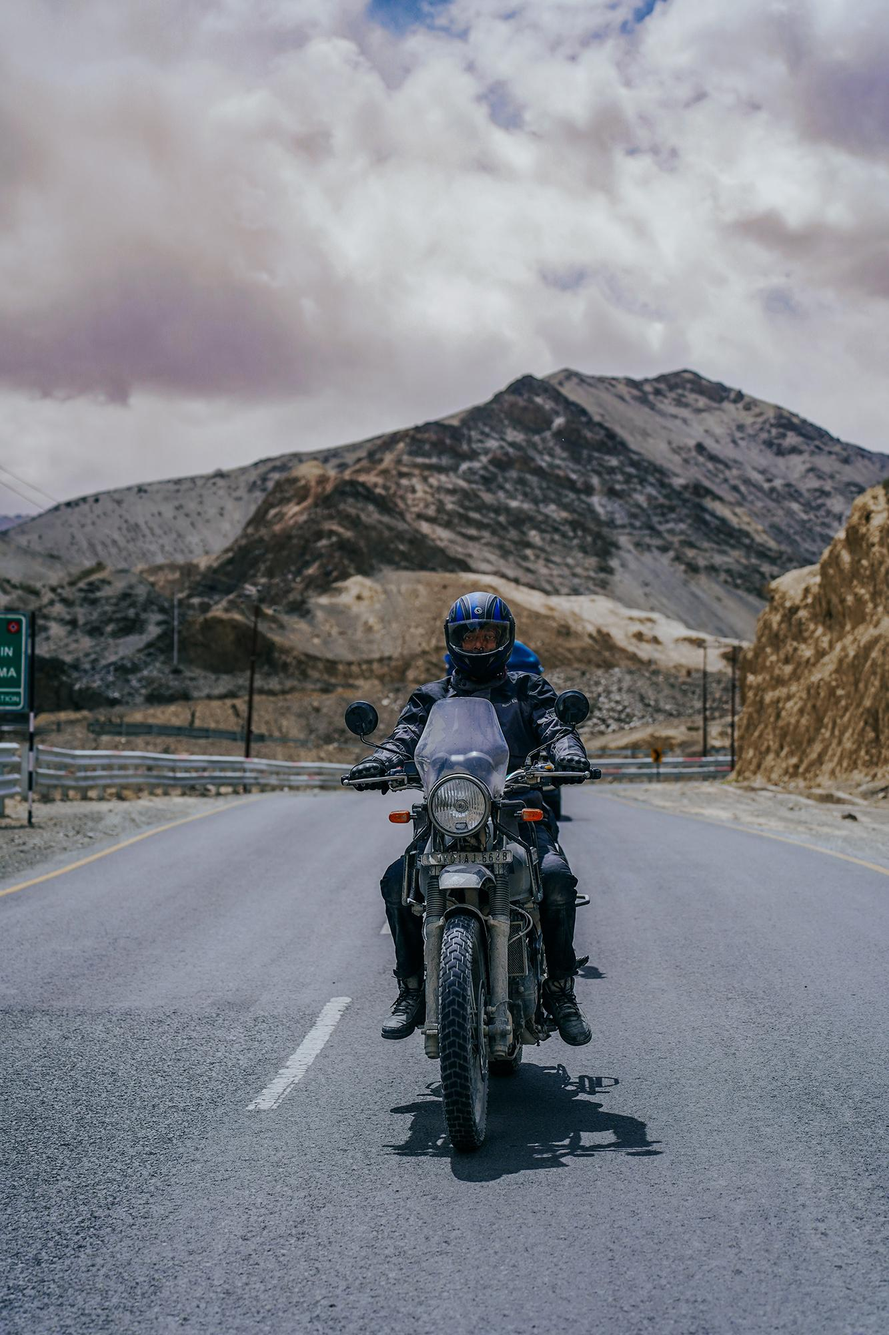helmet: (443, 590, 516, 681)
